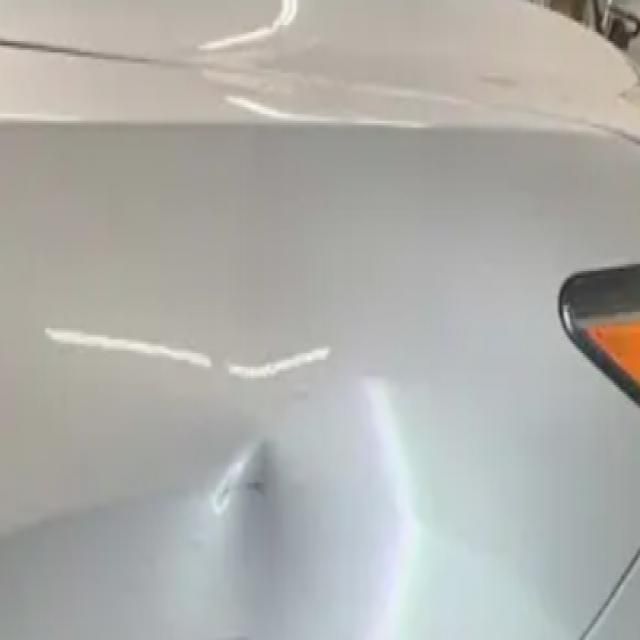dents: (194, 408, 312, 566)
